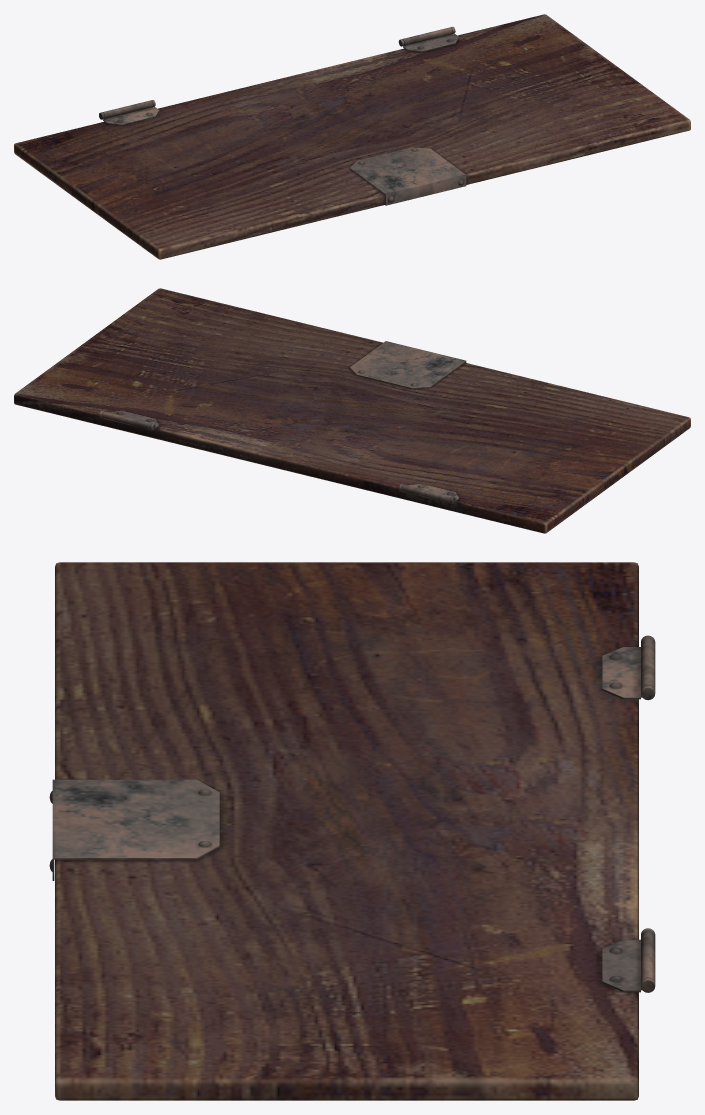
Rendered from SM_Chest_door.fbx.
The picture shows the model from 3 angles, top to bottom: view 1: azimuth 30°, elevation 25°; view 2: azimuth 150°, elevation 25°; view 3: azimuth 270°, elevation 25°; orthographic projection. The views are drawn at different scales.
Visible parts, largest first — view 1: SM_Chest_door; view 2: SM_Chest_door; view 3: SM_Chest_door.
Boxes of the visible parts, x1,y1,x2,y2 form: SM_Chest_door: [14, 14, 690, 259]; SM_Chest_door: [14, 288, 690, 533]; SM_Chest_door: [49, 562, 655, 1100].
Bounding box in the file's own units: 41.5 × 1.29 × 20.44.
